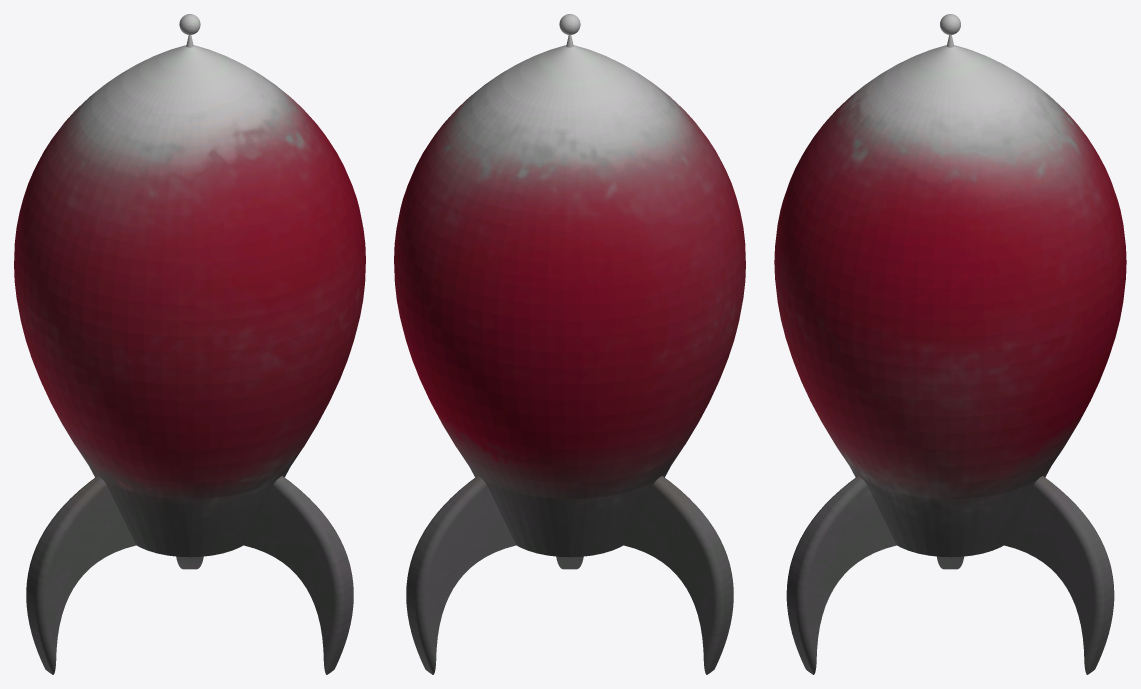
The model's file is Rocket.fbx.
The picture shows the model from 3 angles, left to right: view 1: azimuth 30°, elevation 25°; view 2: azimuth 150°, elevation 25°; view 3: azimuth 270°, elevation 25°; orthographic projection.
Visible parts, largest first — view 1: node_id4; view 2: node_id4; view 3: node_id4.
Part boxes in pixels (x1=…): node_id4: x1=14, y1=14, x2=365, y2=674; node_id4: x1=394, y1=14, x2=745, y2=674; node_id4: x1=774, y1=14, x2=1126, y2=674.
Size of the model in its own units: 49.78 by 95.22 by 48.78.
